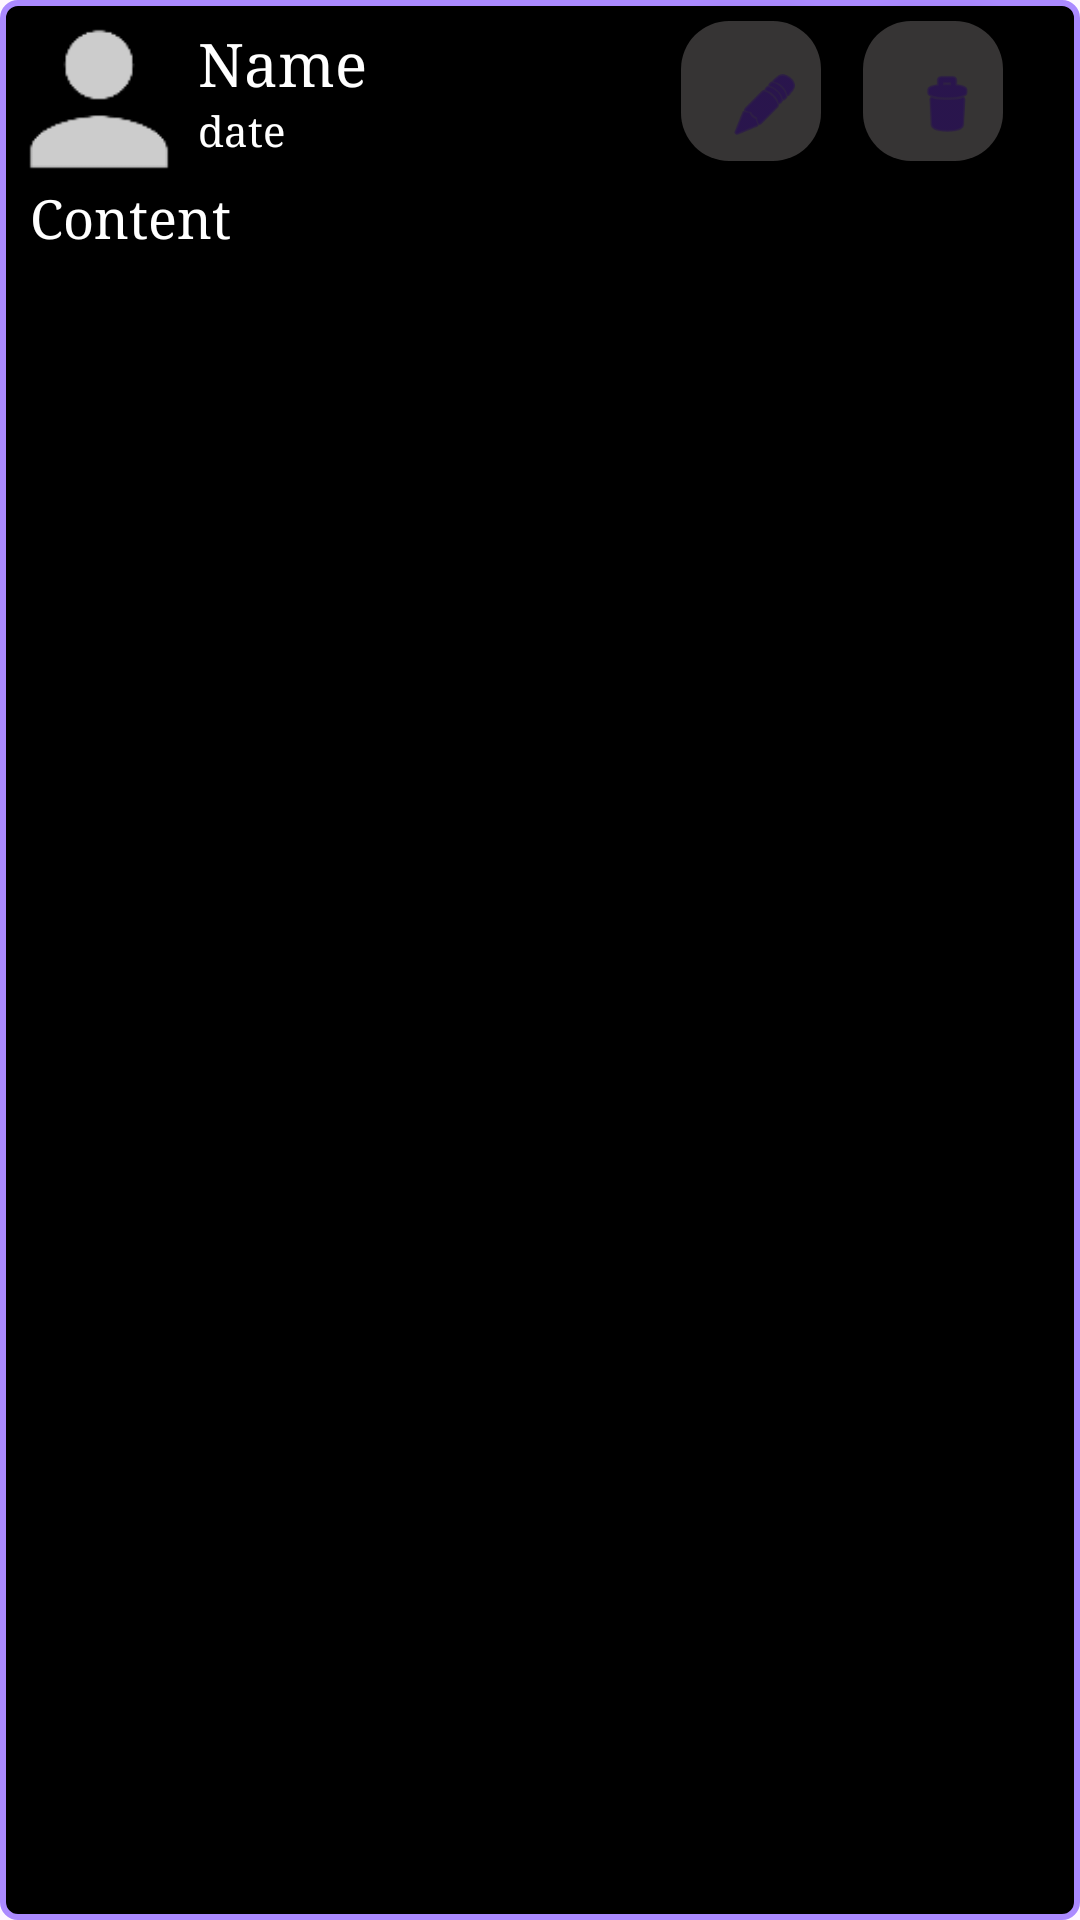

Icons on this 1080w x 1920h Android screen, each with the point to tap as (x=x, y=y):
delete: (x=933, y=91)
edit: (x=751, y=91)
person sign: (x=99, y=99)
